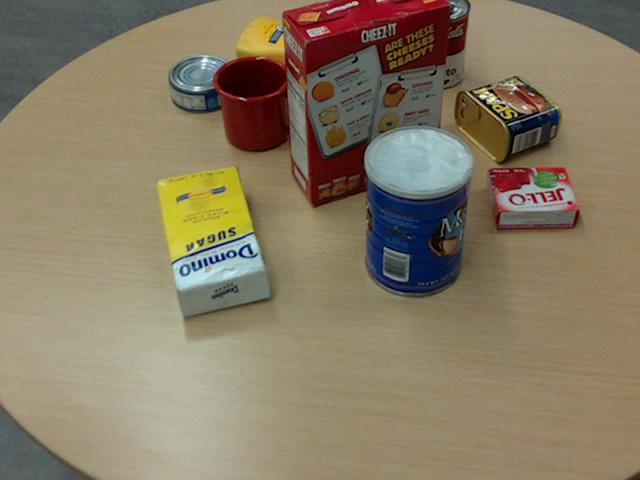cracker_box: (281, 0, 451, 203)
gelatin_box: (487, 165, 578, 226)
large_marker: (386, 28, 406, 118)
master_chef_can: (364, 125, 473, 297)
mug: (211, 55, 309, 149)
mustard_bottle: (235, 14, 385, 87)
potted_meat_can: (453, 75, 560, 161)
sugar_box: (153, 164, 268, 316)
tomato_soup_can: (413, 0, 470, 86)
tuna_fish_can: (166, 52, 235, 110)
